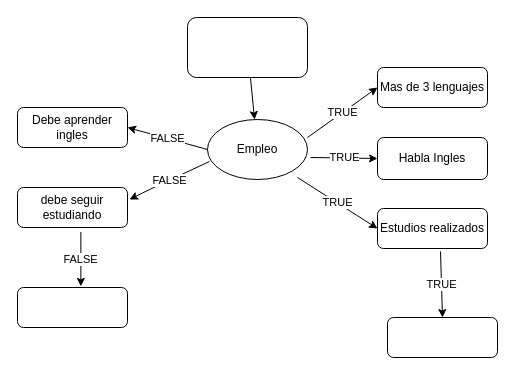
Image size: 515x375. Some labels were removed from this diagram. The centre of each missing label's shape, as x and y in pixels:
Buscando Empleo: point 247,47
Es apto para el puesto: point 442,337
No es apto para el puesto: point 72,307
